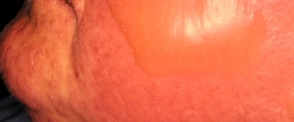SJS-TEN: (105, 0, 266, 82), (0, 17, 103, 122)
